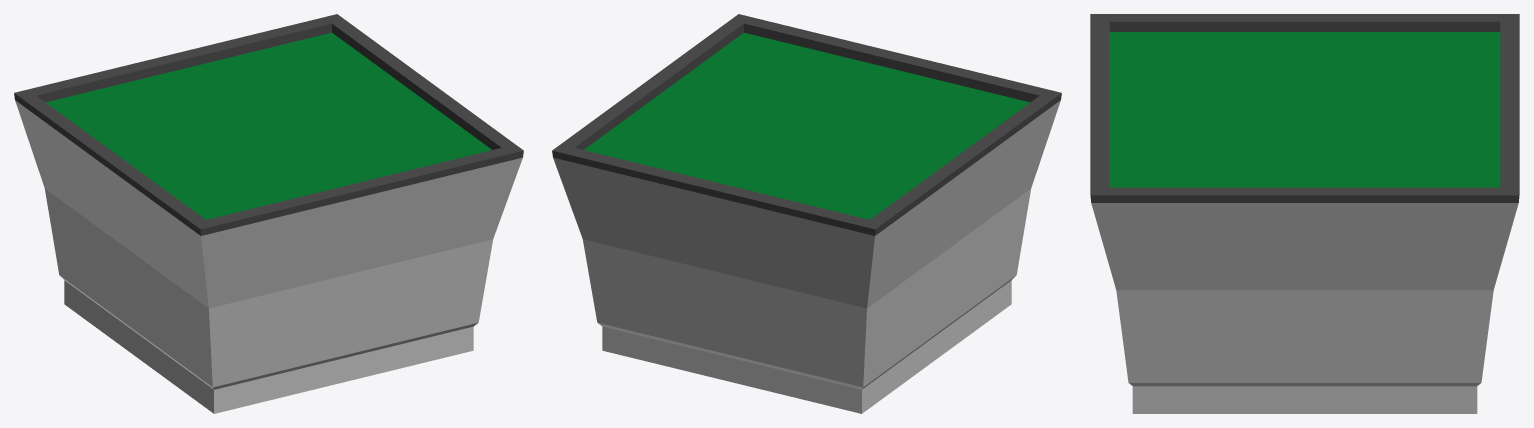
The model's file is Flowerbed-Vase.fbx.
3 views of the same model, side by side, from view 1: azimuth 30°, elevation 25°; view 2: azimuth 150°, elevation 25°; view 3: azimuth 270°, elevation 25° (orthographic). The views are drawn at different scales.
Visible parts, largest first — view 1: Flowerbed-Vase; view 2: Flowerbed-Vase; view 3: Flowerbed-Vase.
Part boxes in pixels (bbox=[...]): Flowerbed-Vase: bbox=[14, 14, 523, 413]; Flowerbed-Vase: bbox=[552, 14, 1061, 413]; Flowerbed-Vase: bbox=[1090, 14, 1519, 413].
Size of what is drawn, in the model's own units: 1.01 by 0.6122 by 1.01.
